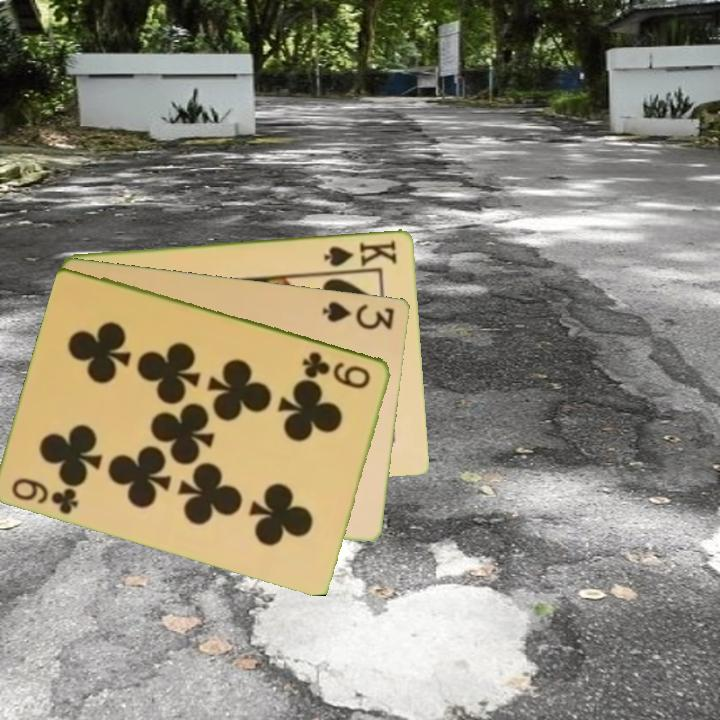3s: (319, 297, 398, 332)
9c: (299, 348, 374, 392), (8, 474, 82, 517)
Ks: (321, 235, 400, 269)
